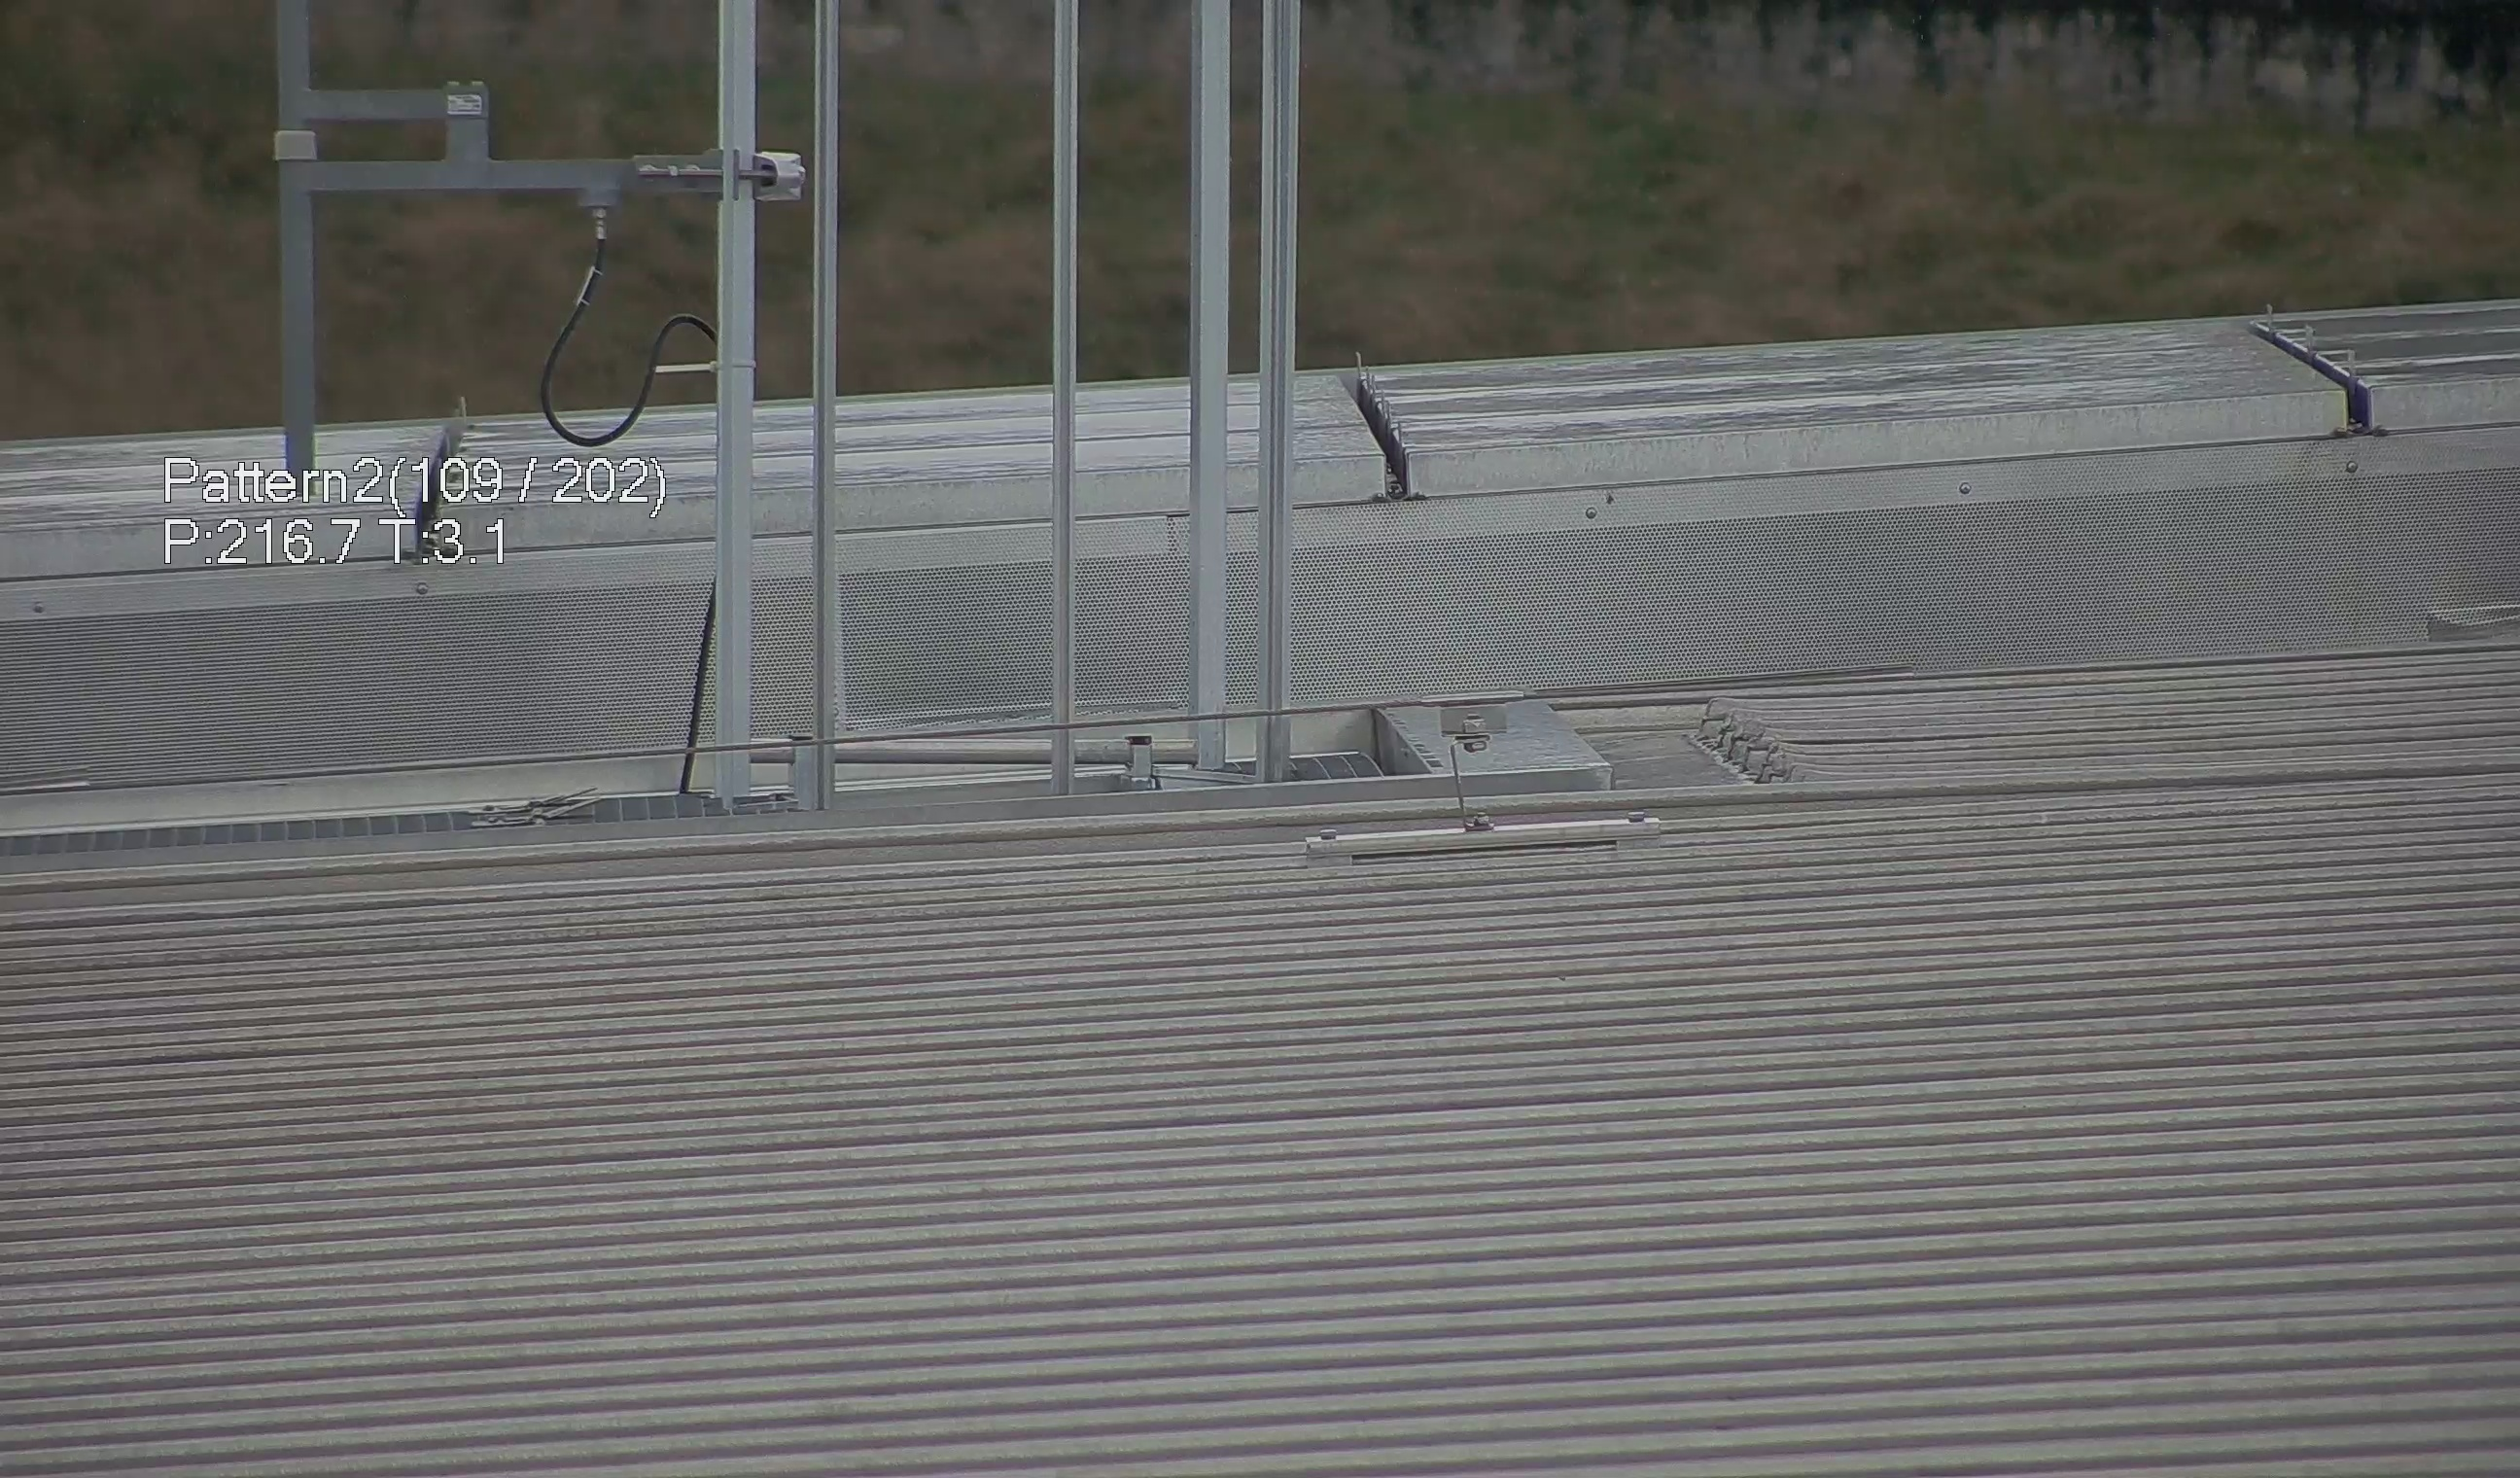Other: (1328, 343, 1424, 507)
